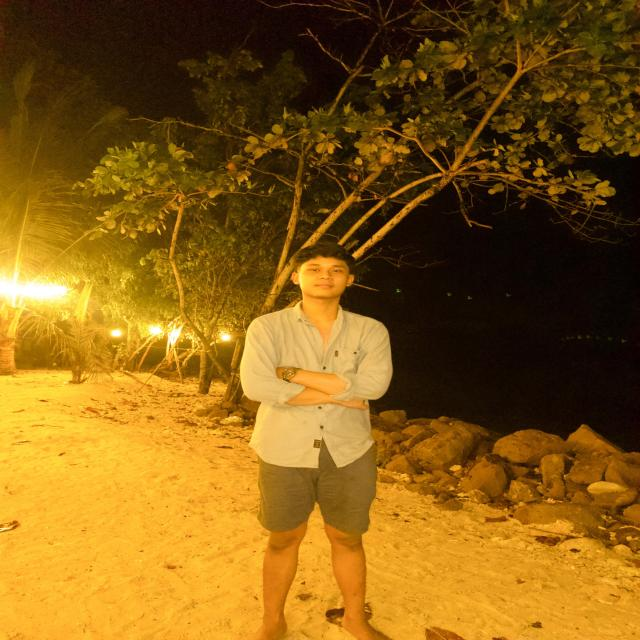nohelmet: (284, 238, 358, 305)
